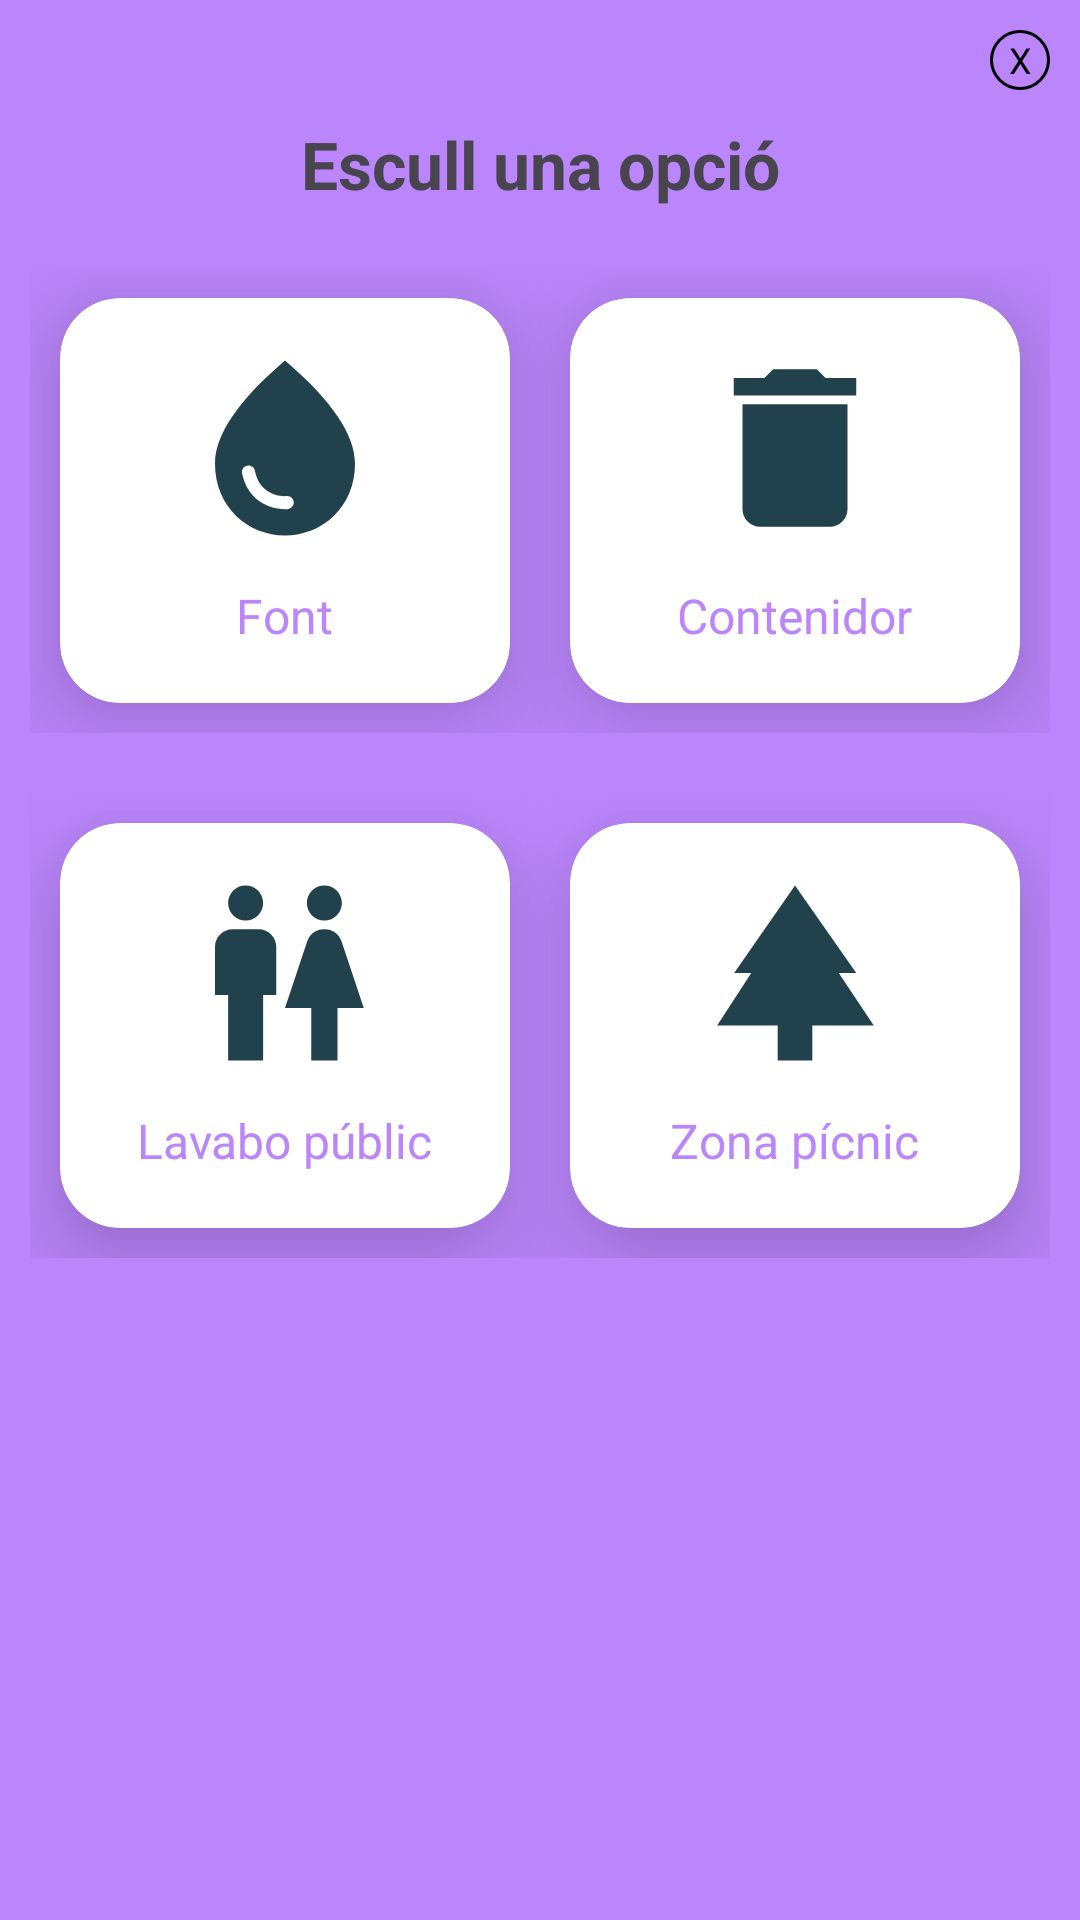

Screen size 1080 x 1920. Icon name, then its box in pixels as (left=x1, top=y1, right=x2, bottom=y2):
icona lavabo: (left=215, top=885, right=364, bottom=1061)
